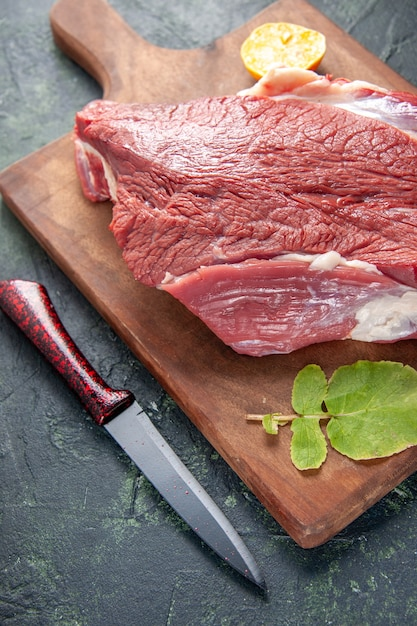knife: (0, 276, 270, 595)
